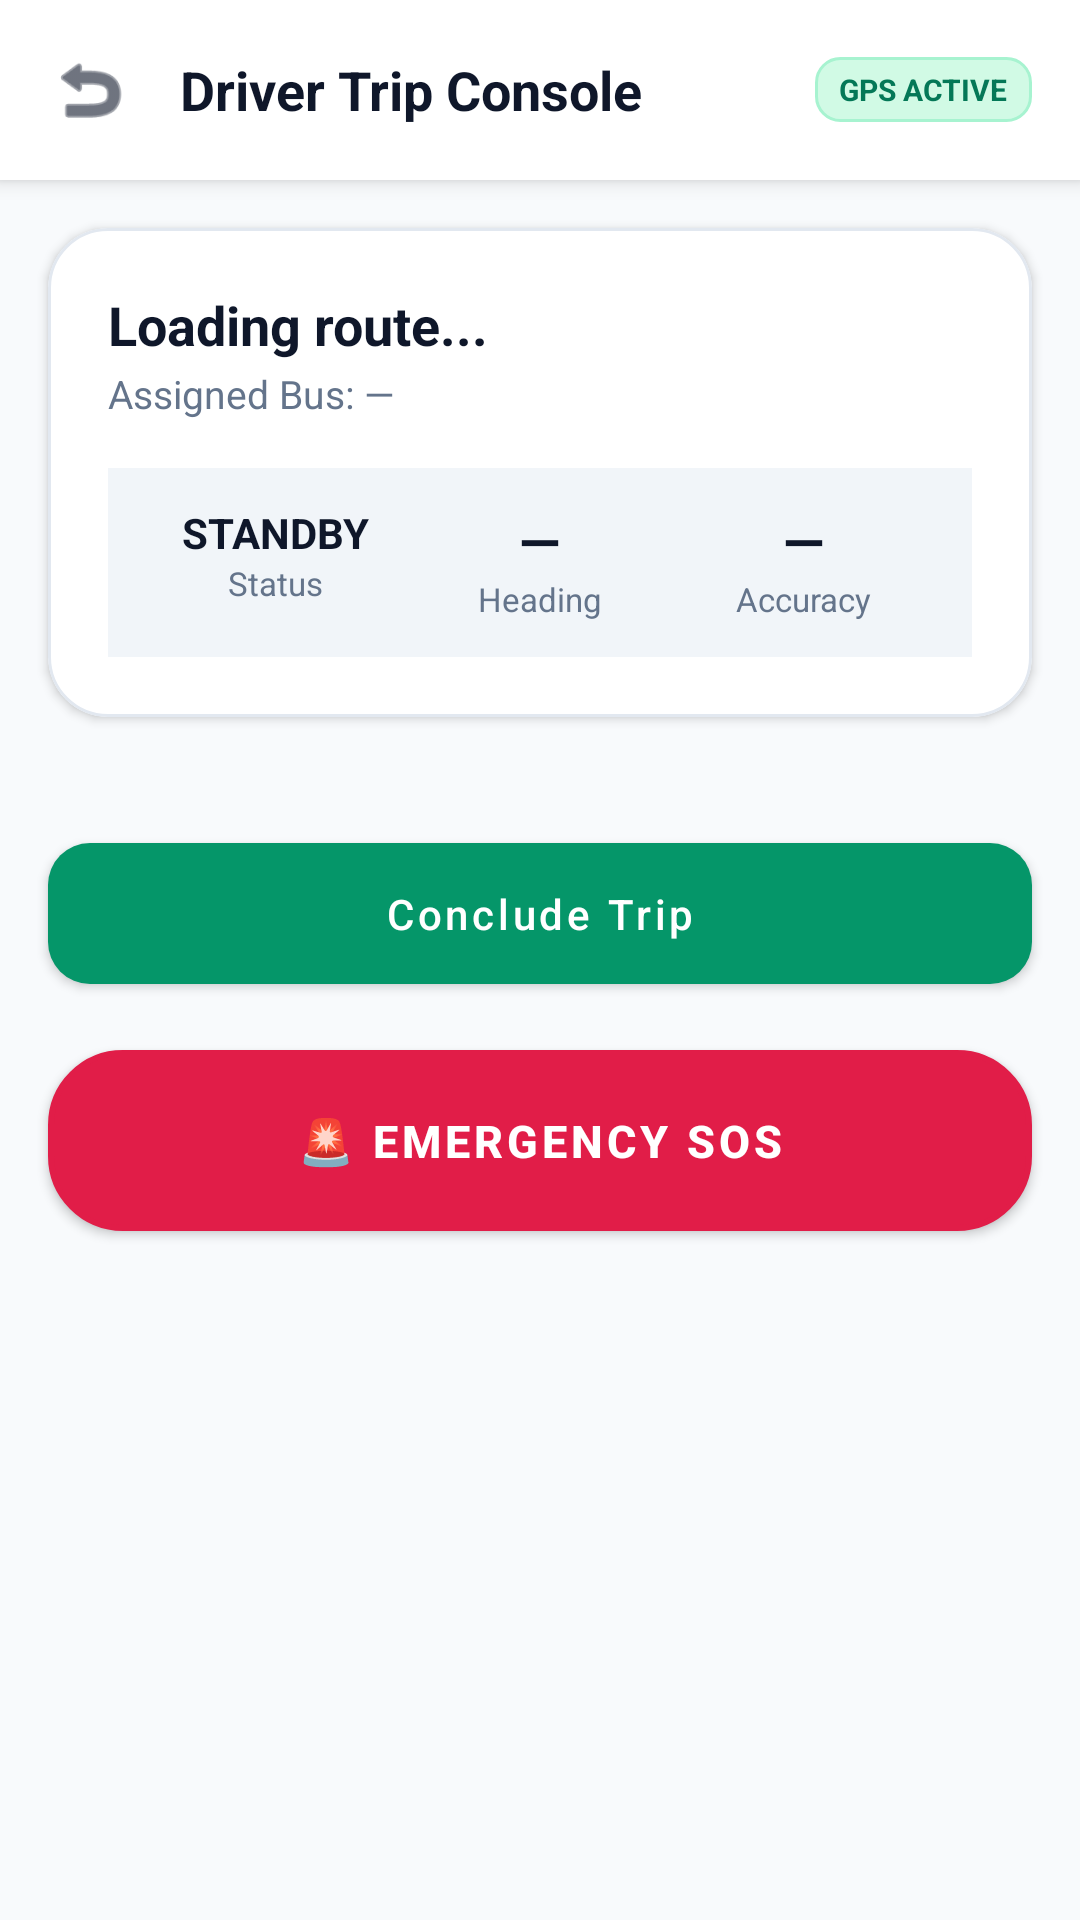

Point at icon controls on the screen. Image size 1080 x 1920, points as (x=x, y=y).
revert: (x=91, y=90)
